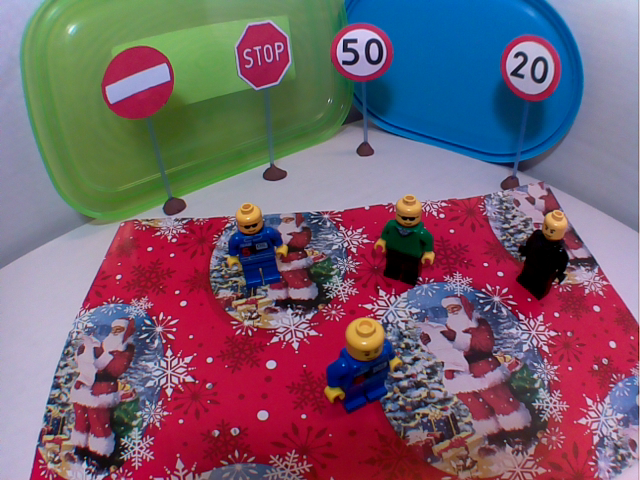Ograniczenie 20: (496, 32, 563, 106)
Ograniczenie 50: (327, 21, 395, 84)
Postac LEGO: (319, 314, 408, 419), (370, 192, 441, 289), (224, 200, 294, 293), (511, 204, 573, 306)
Stop: (233, 16, 295, 93)
Zakaz: (98, 42, 178, 123)
